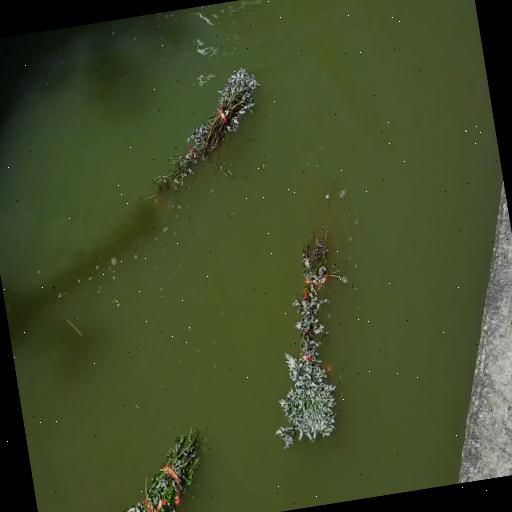twig: (275, 173, 350, 447), (150, 67, 259, 191), (124, 429, 200, 511)
